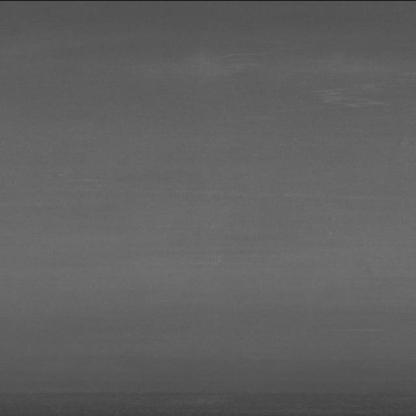silk_spot: (289, 60, 390, 116)
